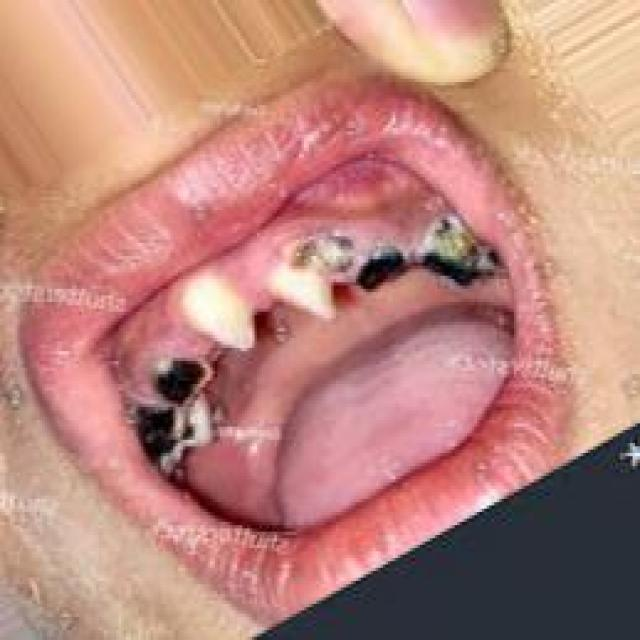caries: (422, 212, 506, 302), (124, 394, 205, 477), (278, 227, 355, 298), (148, 342, 218, 411), (355, 240, 407, 303)
